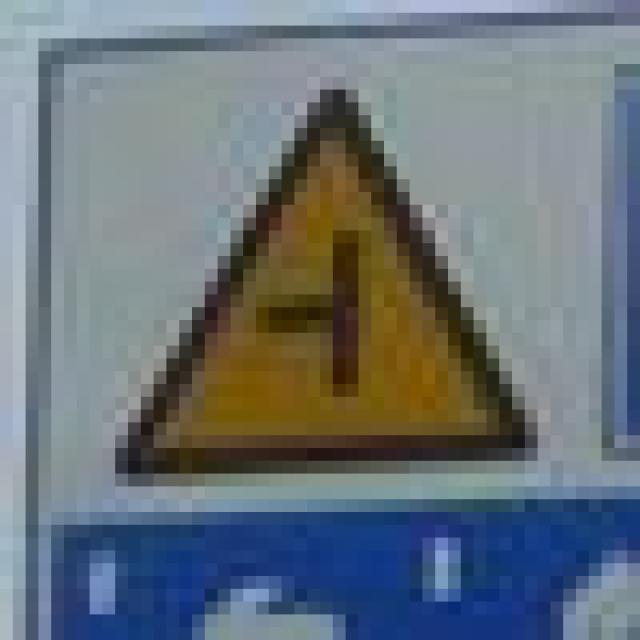side road left: (109, 90, 542, 457)
